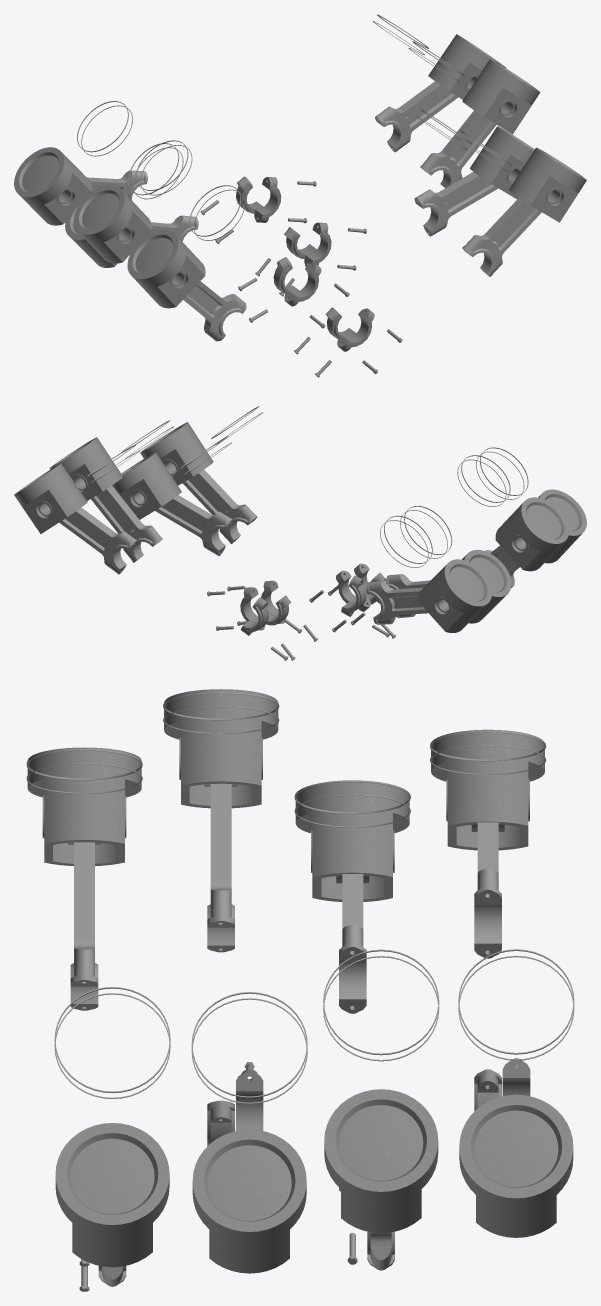
File: conrodPiston.glb
3 renders of one model, top to bottom at view 1: azimuth 30°, elevation 25°; view 2: azimuth 150°, elevation 25°; view 3: azimuth 270°, elevation 25°, orthographic. The views are drawn at different scales.
Parts seen in each view (by area): view 1: Obj_gora_5, Obj_gora_4, Obj_gora_1, Obj_gora_6, Obj_gora_2, Obj_gora_3, tlok_1(6), tlok_1(7), tlok_1(2), tlok_1(3), gora, tlok_1(5) (+9 smaller); view 2: Obj_gora_1, Obj_gora_4, gora, Obj_gora_3, Obj_gora_6, Obj_gora_2, tlok_1(7), tlok_1(3), tlok_1(2), tlok_1(6), tlok_1(1), Obj_gora (+12 smaller); view 3: Obj_gora_6, Obj_gora_3, Obj_gora_2, gora, Obj_gora_1, Obj_gora, Obj_gora_4, Obj_gora_5, tlok_1(4), tlok_1(5), tlok_1(0), tlok_1(1) (+13 smaller).
Boxes of the visible parts, x1,y1,x2,y2 form: Obj_gora_5: (127,230,205,308); Obj_gora_4: (74,185,151,263); Obj_gora_1: (14,147,92,225); Obj_gora_6: (509,147,586,222); Obj_gora_2: (462,59,540,134); Obj_gora_3: (470,126,534,199); tlok_1(6): (462,198,541,276); tlok_1(7): (375,81,458,152); tlok_1(2): (420,110,496,188); tlok_1(3): (414,172,498,236); gora: (428,34,505,99); tlok_1(5): (183,281,246,341); Obj_gora_1: (418,559,491,632); Obj_gora_4: (495,497,569,571); gora: (14,463,87,533); Obj_gora_3: (112,452,181,519); Obj_gora_6: (140,422,213,485); Obj_gora_2: (49,437,122,500); tlok_1(7): (59,507,137,574); tlok_1(3): (155,495,233,555); tlok_1(2): (91,485,162,562); tlok_1(6): (182,469,257,543); tlok_1(1): (366,581,428,624); Obj_gora: (462,549,511,623); Obj_gora_6: (55,1123,169,1267); Obj_gora_3: (192,1129,306,1273); Obj_gora_2: (324,1089,438,1233); gora: (459,1094,573,1237); Obj_gora_1: (431,729,544,850); Obj_gora: (295,782,409,901); Obj_gora_4: (164,689,278,808); Obj_gora_5: (27,747,141,865); tlok_1(4): (204,783,237,952); tlok_1(5): (68,842,100,1010); tlok_1(0): (336,874,369,1013); tlok_1(1): (471,822,504,958).
Bounding box in the file's own units: 0.0175 × 0.00811 × 0.00882.
Materials: 2 (1 with a texture image).
